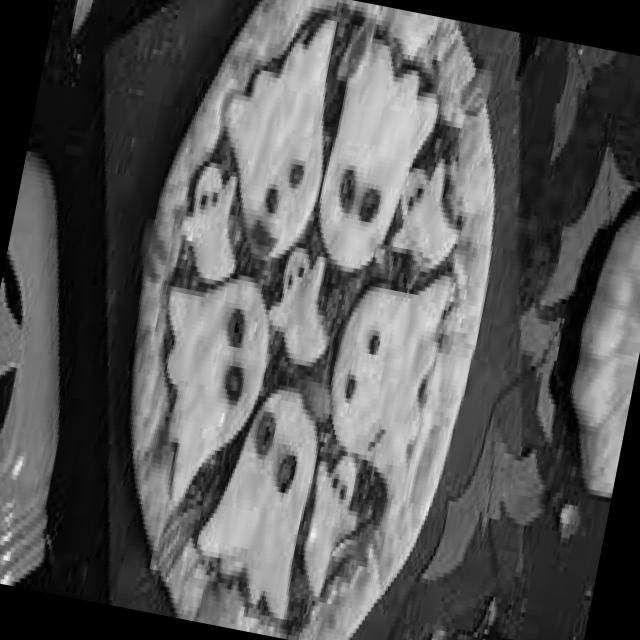pizza: (73, 0, 543, 639)
